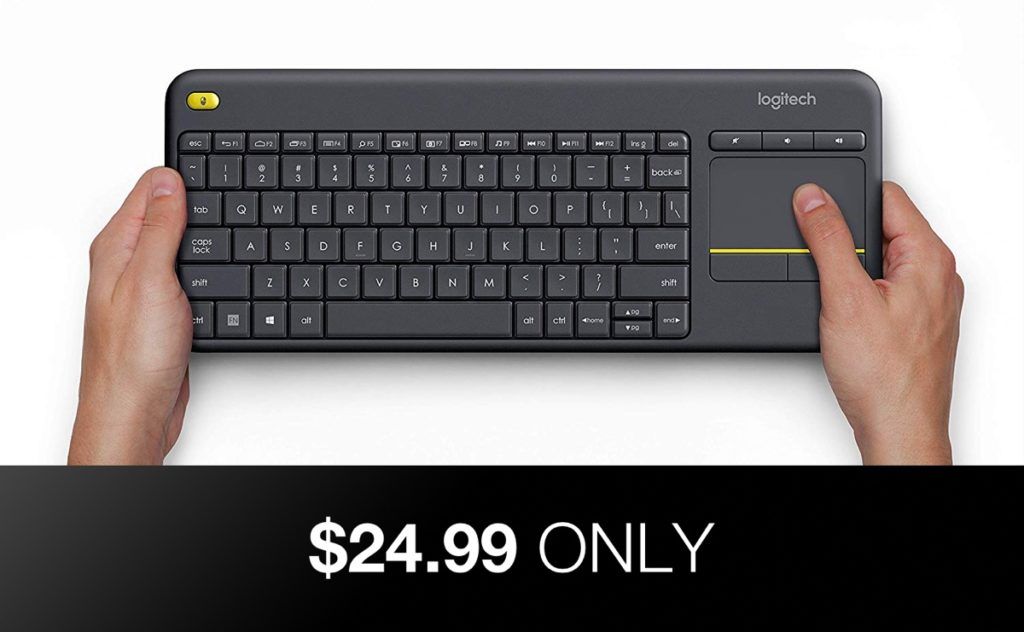logitech-keyboard-k400: (162, 71, 885, 365)
